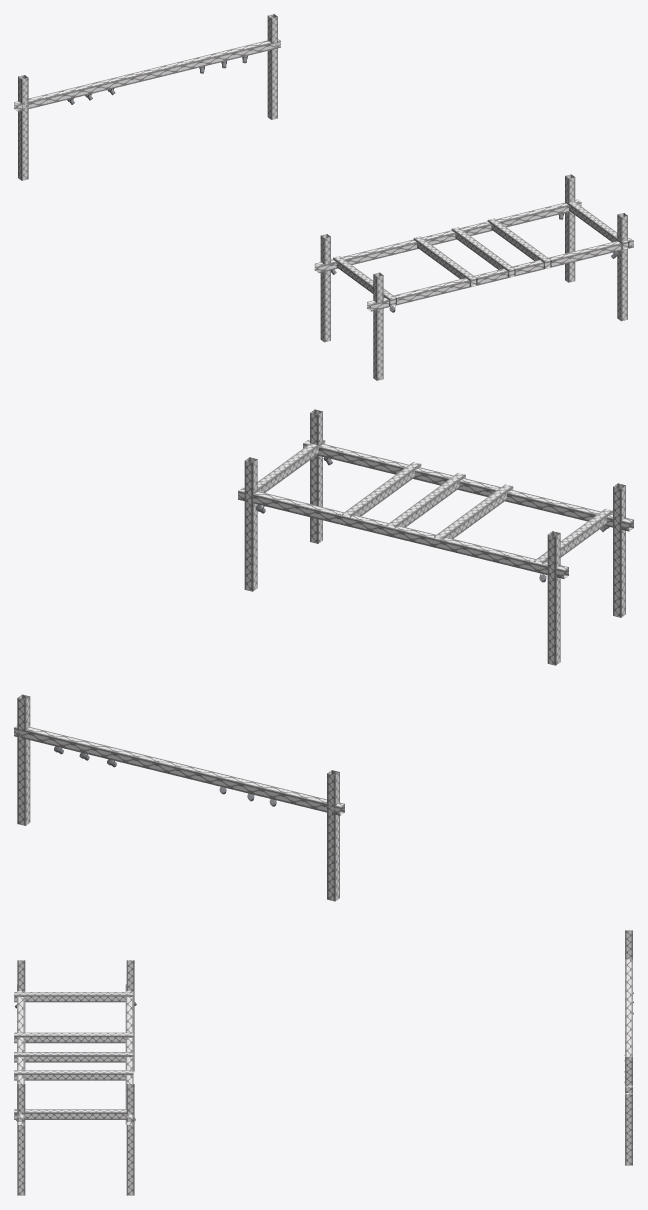
The model's file is bowl02.fbx.
3 views of the same model, one above another, from view 1: azimuth 30°, elevation 25°; view 2: azimuth 150°, elevation 25°; view 3: azimuth 270°, elevation 25° (orthographic). The views are drawn at different scales.
Parts seen in each view (by area): view 1: polySurface4044, polySurface3797; view 2: polySurface4044, polySurface3797; view 3: polySurface4044, polySurface3797.
Boxes of the visible parts, x1,y1,x2,y2 form: polySurface4044: [314, 174, 633, 380]; polySurface3797: [14, 14, 280, 180]; polySurface4044: [238, 409, 633, 665]; polySurface3797: [14, 694, 344, 901]; polySurface4044: [14, 960, 136, 1195]; polySurface3797: [624, 930, 633, 1165].
Size of the model in its own units: 26.55 by 8.17 by 42.51.
3 materials, 3 textured.
